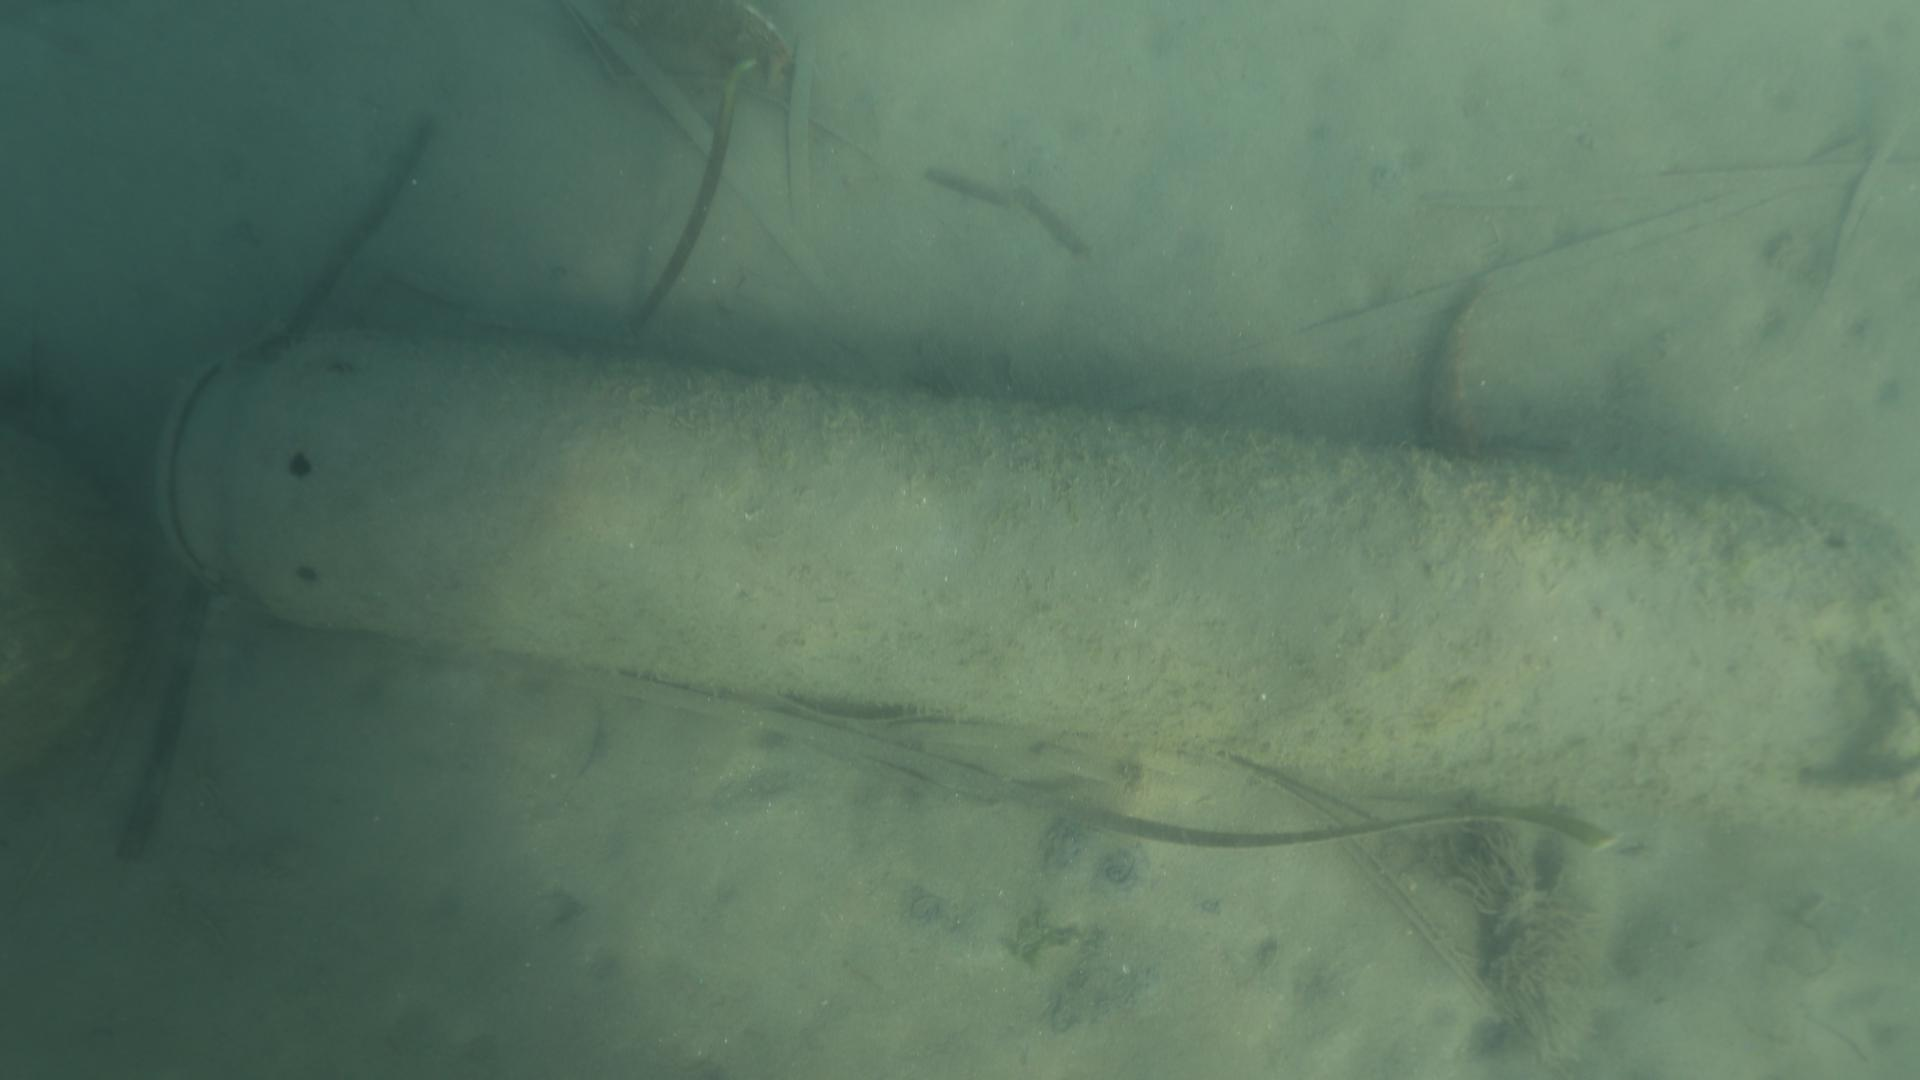eel fish trap: (154, 334, 1920, 839)
